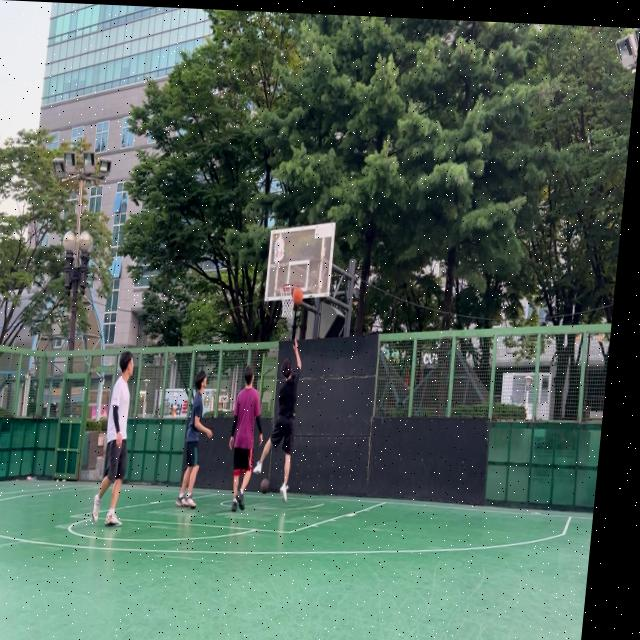basketball: (291, 288, 304, 308), (260, 477, 270, 494)
hoop: (277, 282, 301, 320)
